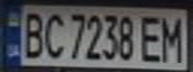2: (84, 10, 106, 61)
3: (100, 10, 121, 61)
7: (66, 9, 87, 61)
8: (115, 11, 139, 62)
B: (18, 8, 48, 60)
C: (39, 8, 69, 60)
E: (136, 12, 166, 63)
M: (157, 12, 187, 63)
